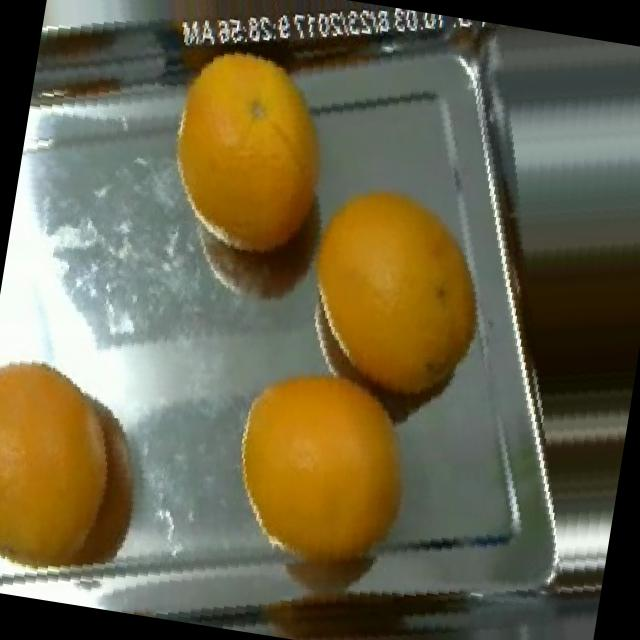Fruit: (134, 18, 369, 274)
